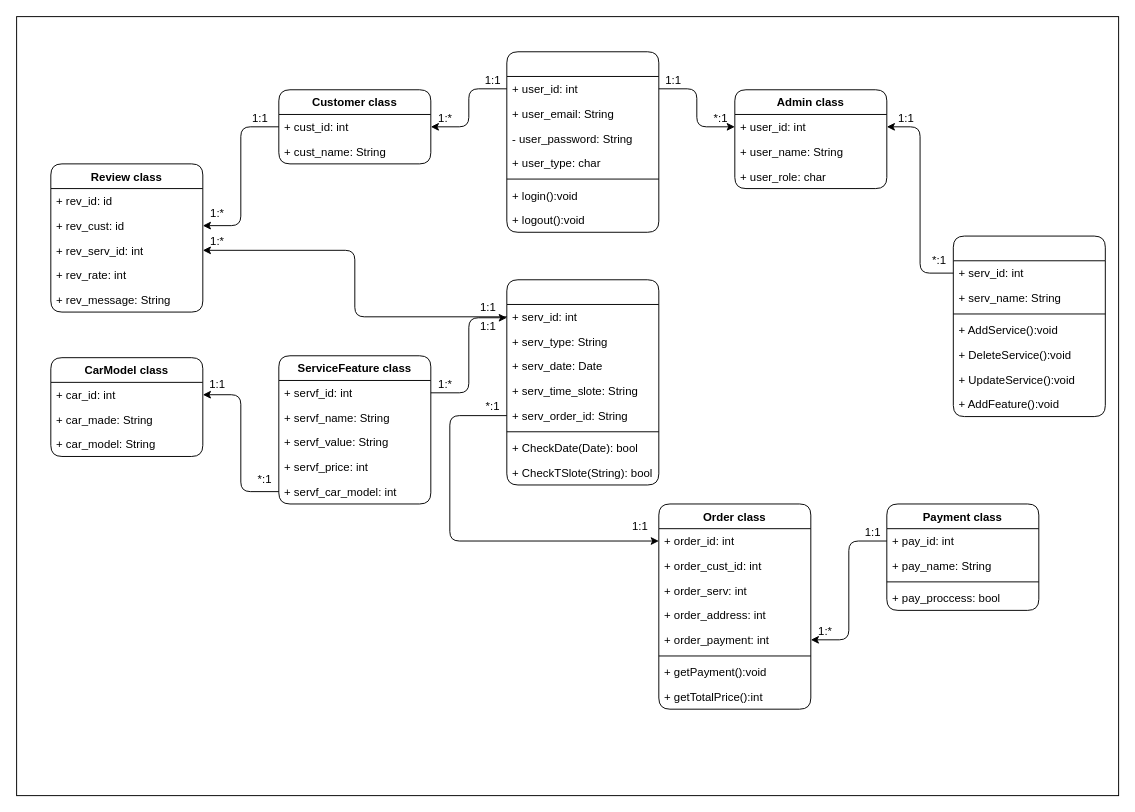
Some shapes in this 1135 by 812 pixel diagram are drawn without their labels. The shapes that lost their labels are listed below. From the top down, each one's box as (x1, y1, x2, y2) in pixels, then its label:
(506, 51, 659, 232): User class
(952, 235, 1105, 417): ManageService class
(506, 279, 659, 485): Service class
